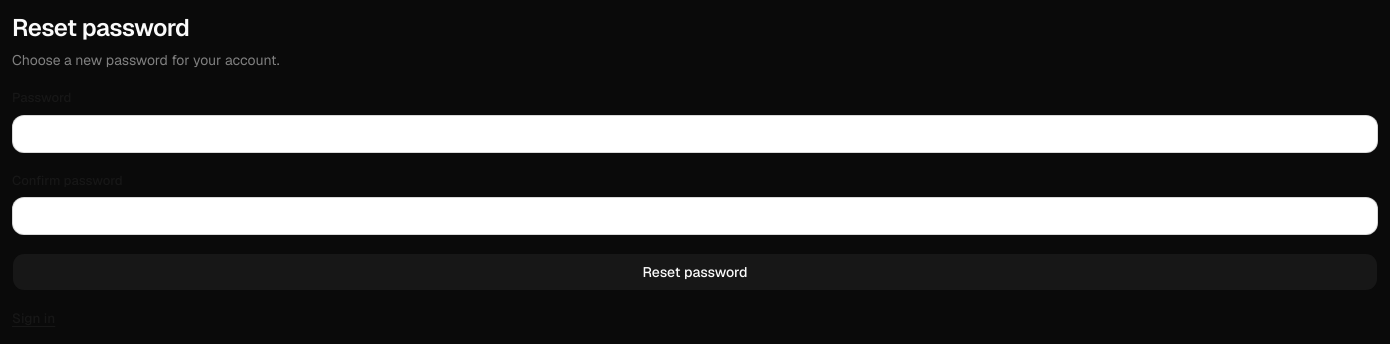
Scenario: ResetPasswordForm › resets the password with the typed value and the token, then shows a sign-in link
Type "a-long-enough-password" into the password field labelled "Password". click: (695, 134)
box: [12,114,1378,152]
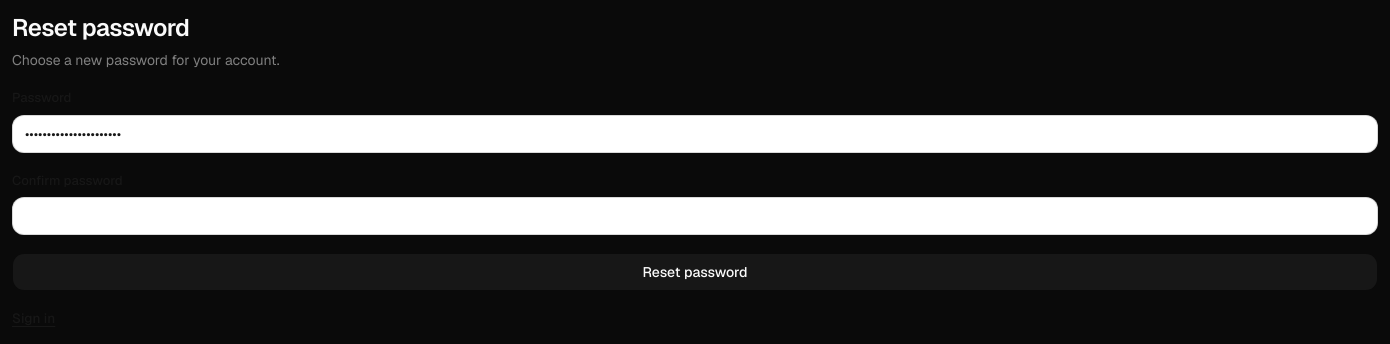
Type "a-long-enough-password" into the password field labelled "Confirm password". click: (695, 216)
box: [12,197,1378,235]
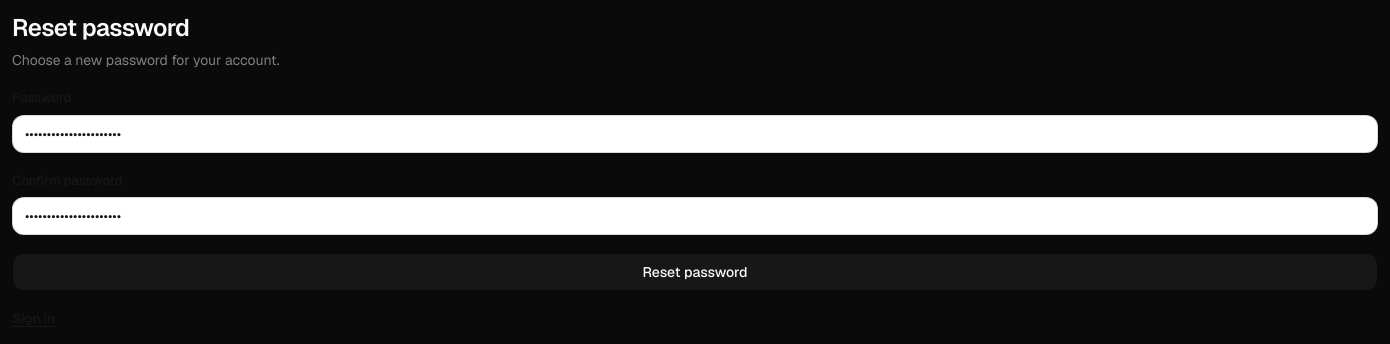
Click the button "Reset password". click: (695, 272)
box: [12,253,1378,291]
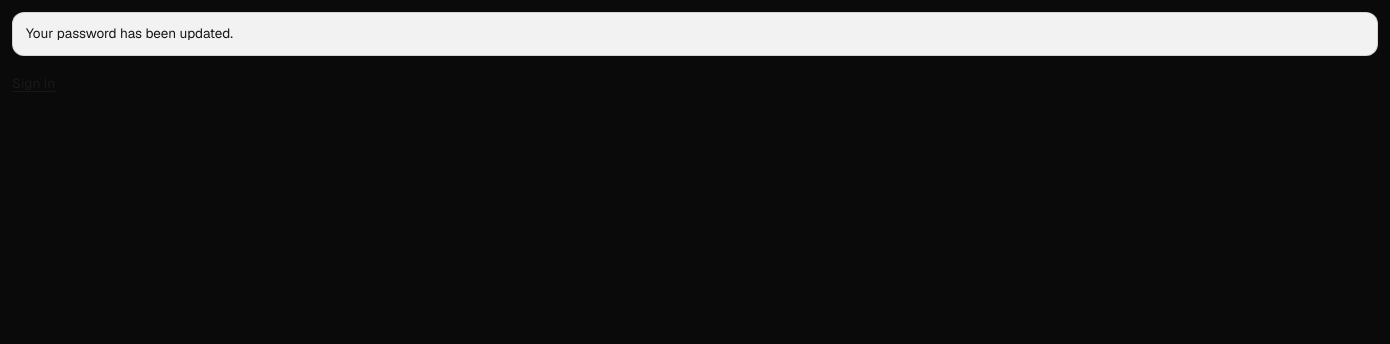
Check: the text "Your password has been updated." is shown, box [12,12,1378,56]
